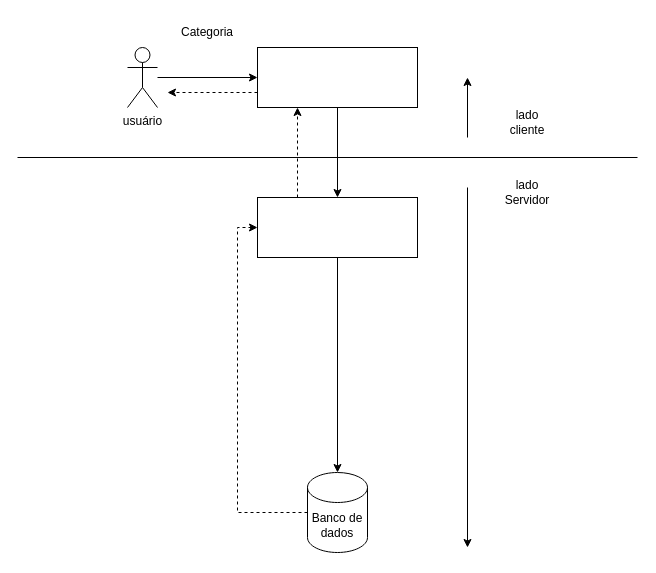
The diagram is 656 pixels wide and 573 high, and some of its shapes have lost their labels. The centre of each missing label's shape, as x and y in pixels:
"Página (html, css, js)" belongs at point 337,77.
"Serviço (Micro Serviço) API" belongs at point 337,227.
